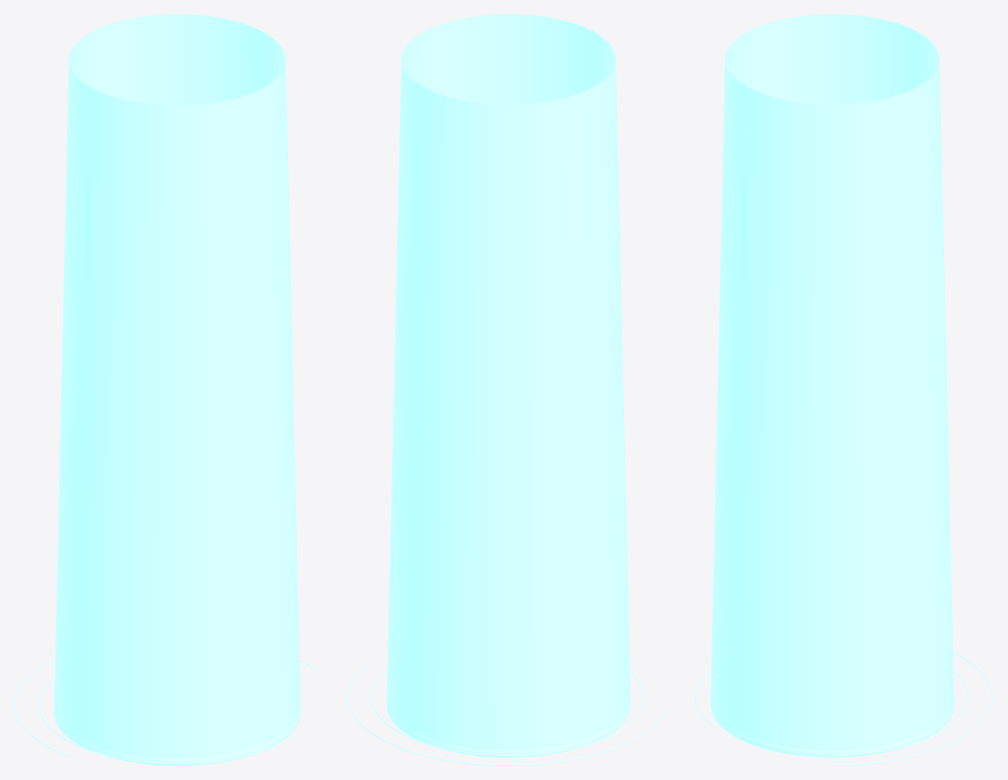
Rendered from twin.glb.
3 views of the same model, side by side, from view 1: azimuth 30°, elevation 25°; view 2: azimuth 150°, elevation 25°; view 3: azimuth 270°, elevation 25° (orthographic).
Parts seen in each view (by area): view 1: FX_beam, FX_platform, FX_ring_2; view 2: FX_beam, FX_platform, FX_ring_3, FX_ring_2; view 3: FX_beam, FX_platform.
Part boxes in pixels (box(x1,y1,x2,y2)): FX_beam: box(54, 14, 300, 759); FX_platform: box(54, 708, 300, 765); FX_ring_2: box(39, 678, 297, 764); FX_beam: box(386, 14, 630, 751); FX_platform: box(386, 701, 630, 757); FX_ring_3: box(347, 663, 666, 765); FX_ring_2: box(371, 671, 645, 755); FX_beam: box(710, 14, 954, 751); FX_platform: box(710, 701, 954, 757).
Bounding box in the file's own units: 1.32 × 2.93 × 1.22.
